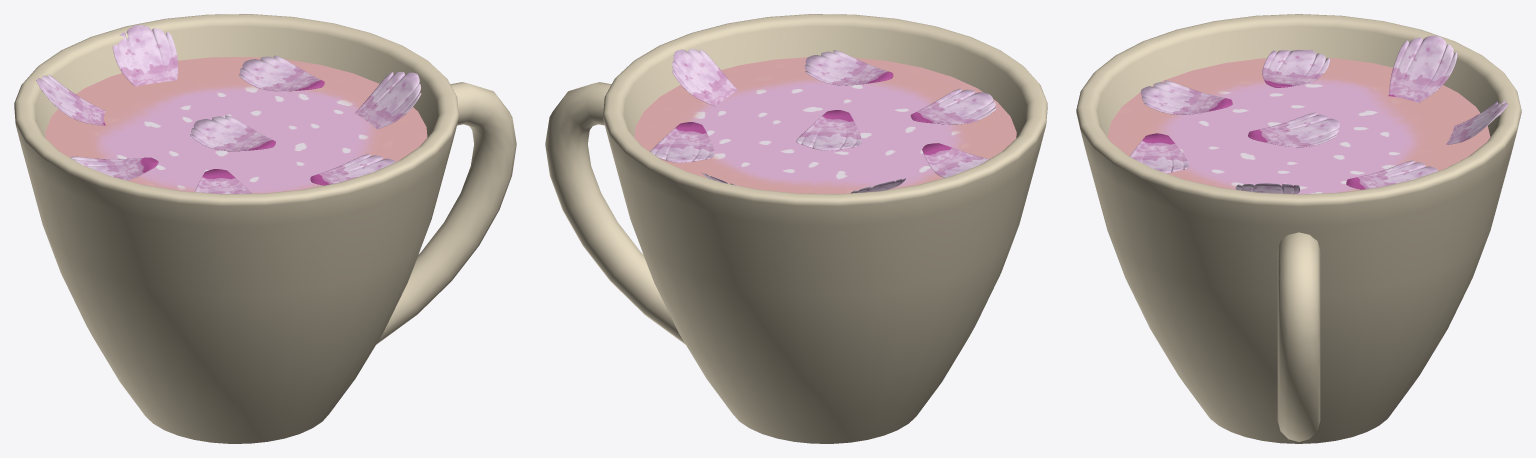
File: rose cardamon koffie.fbx
3 views of the same model, side by side, from view 1: azimuth 30°, elevation 25°; view 2: azimuth 150°, elevation 25°; view 3: azimuth 270°, elevation 25° (orthographic).
Visible parts, largest first — view 1: CoffeeCup, Liquid, Pedal.010, Pedal.001, Pedal.016, Pedal.011, Pedal.015, Pedal.012, Pedal.013, Pedal.014; view 2: CoffeeCup, Liquid, Pedal.001, Pedal.014, Pedal.012, Pedal.011, Pedal.016, Pedal.013; view 3: CoffeeCup, Liquid, Pedal.015, Pedal.013, Pedal.011, Pedal.014, Pedal.012, Pedal.016, Pedal.010, Pedal.001.
Boxes of the visible parts, bbox=[...] form: CoffeeCup: bbox=[14, 14, 516, 443]; Liquid: bbox=[45, 57, 427, 193]; Pedal.010: bbox=[112, 25, 177, 86]; Pedal.001: bbox=[355, 72, 421, 129]; Pedal.016: bbox=[238, 55, 324, 91]; Pedal.011: bbox=[190, 115, 275, 151]; Pedal.015: bbox=[36, 74, 105, 125]; Pedal.012: bbox=[310, 154, 396, 185]; Pedal.013: bbox=[70, 156, 158, 180]; Pedal.014: bbox=[194, 169, 251, 193]; CoffeeCup: bbox=[545, 14, 1047, 443]; Liquid: bbox=[634, 57, 1016, 193]; Pedal.001: bbox=[672, 49, 737, 106]; Pedal.014: bbox=[910, 88, 996, 124]; Pedal.012: bbox=[804, 50, 893, 85]; Pedal.011: bbox=[796, 110, 861, 150]; Pedal.016: bbox=[650, 122, 714, 162]; Pedal.013: bbox=[922, 143, 989, 177]; CoffeeCup: bbox=[1076, 14, 1521, 443]; Liquid: bbox=[1107, 58, 1490, 194]; Pedal.015: bbox=[1388, 35, 1457, 102]; Pedal.013: bbox=[1262, 49, 1329, 87]; Pedal.011: bbox=[1248, 112, 1339, 147]; Pedal.014: bbox=[1140, 80, 1232, 114]; Pedal.012: bbox=[1129, 133, 1189, 173]; Pedal.016: bbox=[1346, 160, 1437, 189]; Pedal.010: bbox=[1446, 100, 1508, 144]; Pedal.001: bbox=[1235, 183, 1299, 194].
Bounding box in the file's own units: 56.58 × 34.96 × 46.42.
